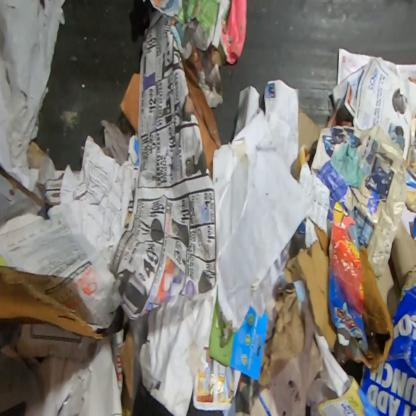cardboard: (269, 282, 340, 415), (0, 264, 111, 342), (359, 285, 415, 415), (282, 222, 336, 356), (328, 201, 369, 369), (253, 281, 305, 399), (22, 342, 99, 415), (180, 54, 223, 182), (360, 243, 394, 371), (376, 219, 415, 318), (0, 164, 54, 229), (117, 319, 137, 415), (118, 72, 141, 136), (298, 106, 323, 157), (234, 373, 252, 415), (28, 142, 50, 170)
soft_plastic: (0, 0, 68, 173), (100, 118, 134, 167)
